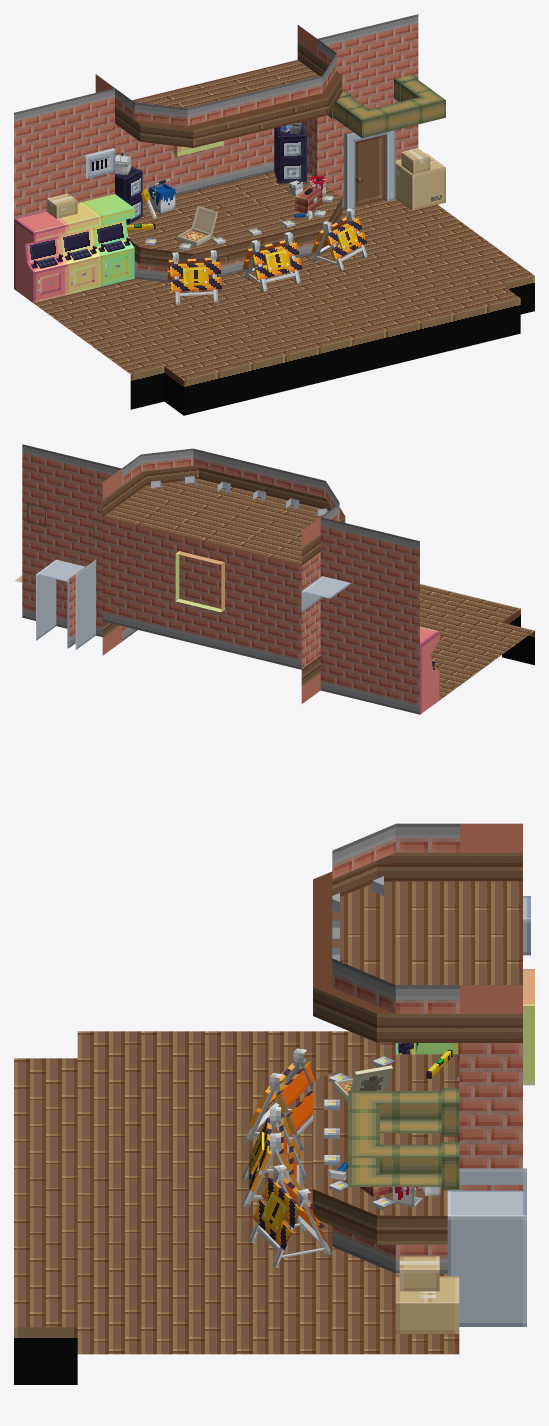
Rendered from fnaf.glb.
3 renders of one model, top to bottom at view 1: azimuth 30°, elevation 25°; view 2: azimuth 150°, elevation 25°; view 3: azimuth 270°, elevation 25°, orthographic. The views are drawn at different scales.
Parts seen in each view (by area): view 1: WoodeFloor_15, Object_63, BrickWall_16, Object_5, BrickWallUp_17, UnderConstruction_19, BrickWallDown_18, ArcadeGameRed_9, ArcadeGameGreen_7, ArcadeGameYellow_8, BigBox_5, SimpleWoodDoor1_13 (+9 smaller); view 2: BrickWall_16, Object_5, BrickWallDown_18, WoodeFloor_15, BrickWallUp_17, Door frame_14, Object_63, ArcadeGameRed_9, Ventilation_6; view 3: WoodeFloor_15, Object_5, Object_63, Door frame_14, UnderConstruction_19, BrickWall_16, TubeGateway_1, TubeTurn_3, BigBox_5, SmallBox_4, Tube_2, PizzaBox_11.
Boxes of the visible parts, bbox=[...] form: WoodeFloor_15: bbox=[34, 199, 534, 415]; Object_63: bbox=[115, 123, 342, 282]; BrickWall_16: bbox=[14, 49, 418, 218]; Object_5: bbox=[95, 25, 342, 147]; BrickWallUp_17: bbox=[14, 14, 418, 147]; UnderConstruction_19: bbox=[167, 208, 367, 304]; BrickWallDown_18: bbox=[139, 136, 343, 208]; ArcadeGameRed_9: bbox=[14, 210, 67, 303]; ArcadeGameGreen_7: bbox=[81, 194, 134, 286]; ArcadeGameYellow_8: bbox=[58, 202, 101, 294]; BigBox_5: bbox=[395, 153, 445, 210]; SimpleWoodDoor1_13: bbox=[355, 134, 384, 206]; BrickWall_16: bbox=[22, 479, 419, 679]; Object_5: bbox=[102, 448, 345, 565]; BrickWallDown_18: bbox=[22, 583, 419, 714]; WoodeFloor_15: bbox=[420, 584, 534, 700]; BrickWallUp_17: bbox=[22, 444, 419, 575]; Door frame_14: bbox=[36, 559, 95, 649]; Object_63: bbox=[102, 551, 320, 703]; ArcadeGameRed_9: bbox=[420, 626, 439, 714]; Ventilation_6: bbox=[301, 576, 351, 612]; WoodeFloor_15: bbox=[14, 1031, 459, 1384]; Object_5: bbox=[313, 823, 522, 1042]; Object_63: bbox=[313, 969, 534, 1273]; Door frame_14: bbox=[447, 1168, 526, 1326]; UnderConstruction_19: bbox=[242, 1048, 331, 1267]; BrickWall_16: bbox=[459, 1043, 522, 1190]; TubeGateway_1: bbox=[395, 1088, 459, 1189]; TubeTurn_3: bbox=[348, 1091, 395, 1186]; BigBox_5: bbox=[395, 1276, 459, 1333]; SmallBox_4: bbox=[399, 1256, 439, 1291]; Tube_2: bbox=[348, 1111, 379, 1166]; PizzaBox_11: bbox=[334, 1065, 392, 1102].
Size of the model in its own units: 8.17 by 4 by 5.46.
29 materials, 29 textured.
